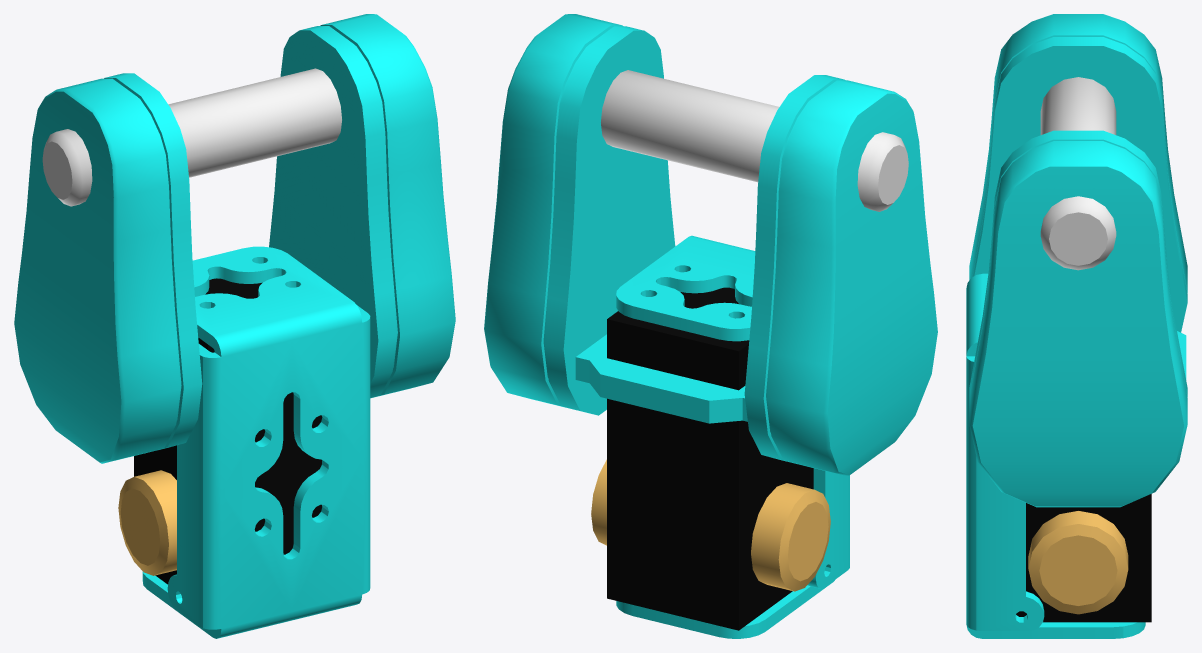
Rendered from arm3.gltf.
The picture shows the model from 3 angles, left to right: view 1: azimuth 30°, elevation 25°; view 2: azimuth 150°, elevation 25°; view 3: azimuth 270°, elevation 25°; orthographic projection. The views are drawn at different scales.
Visible parts, largest first — view 1: Cylinder.009; view 2: Cylinder.009; view 3: Cylinder.009.
Boxes of the visible parts, left/top/right/bottom form: Cylinder.009: left=14, top=14, right=455, bottom=638; Cylinder.009: left=484, top=14, right=937, bottom=638; Cylinder.009: left=966, top=14, right=1187, bottom=638.
Size of the model in its own units: 2.96 by 4.17 by 1.62.
